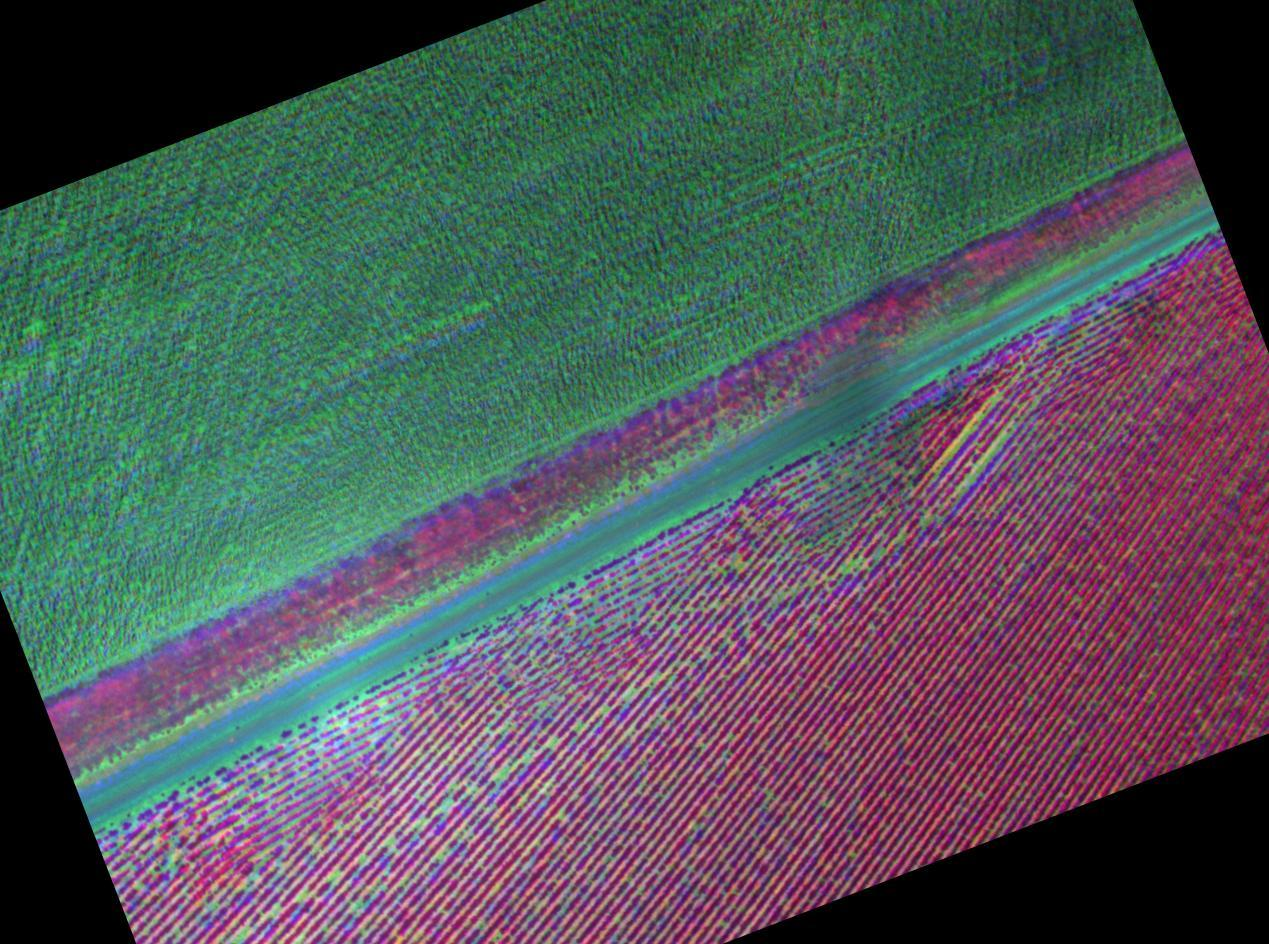dc: (626, 692, 632, 697), (300, 893, 305, 899), (734, 562, 739, 567), (977, 468, 981, 474), (966, 430, 971, 434), (925, 518, 929, 523), (1083, 331, 1087, 335), (644, 629, 648, 633), (552, 741, 557, 744), (389, 841, 392, 845)
